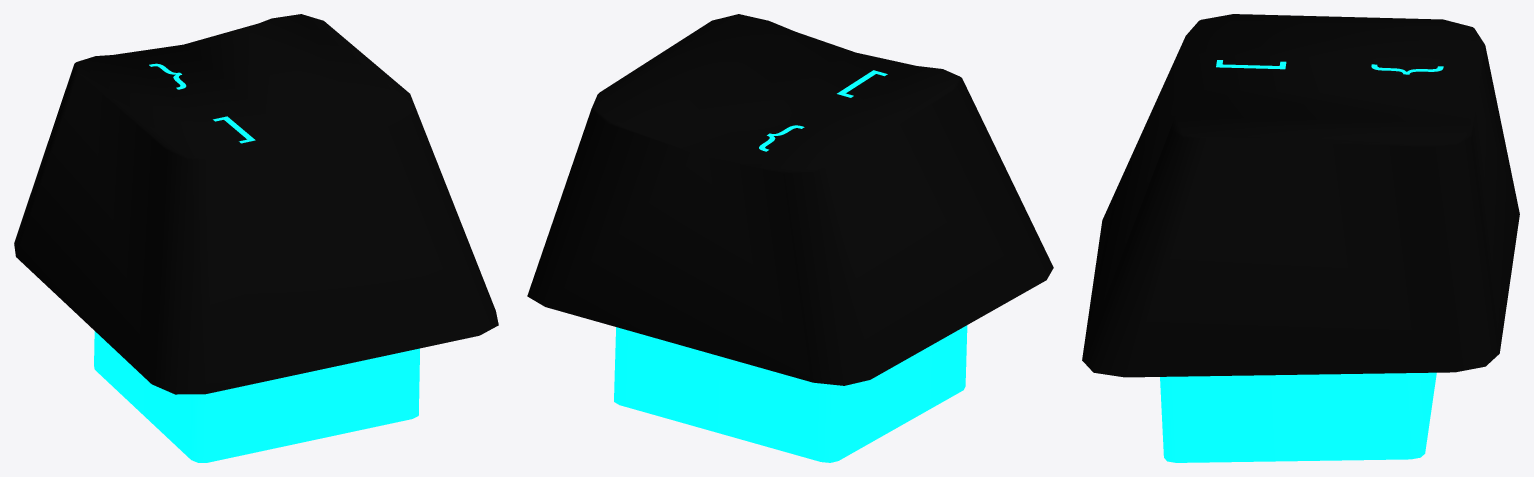
The model's file is key_15-Bo1ddOcJ.glb.
3 renders of one model, left to right at view 1: azimuth 30°, elevation 25°; view 2: azimuth 150°, elevation 25°; view 3: azimuth 270°, elevation 25°, orthographic. The views are drawn at different scales.
Visible parts, largest first — view 1: StudyShelf_505; view 2: StudyShelf_505; view 3: StudyShelf_505.
Part boxes in pixels (x1,y1,x2,y2): StudyShelf_505: (14,14,498,462); StudyShelf_505: (527,14,1053,462); StudyShelf_505: (1082,14,1519,462).
Size of the model in its own units: 4.35 by 3.62 by 4.35.
